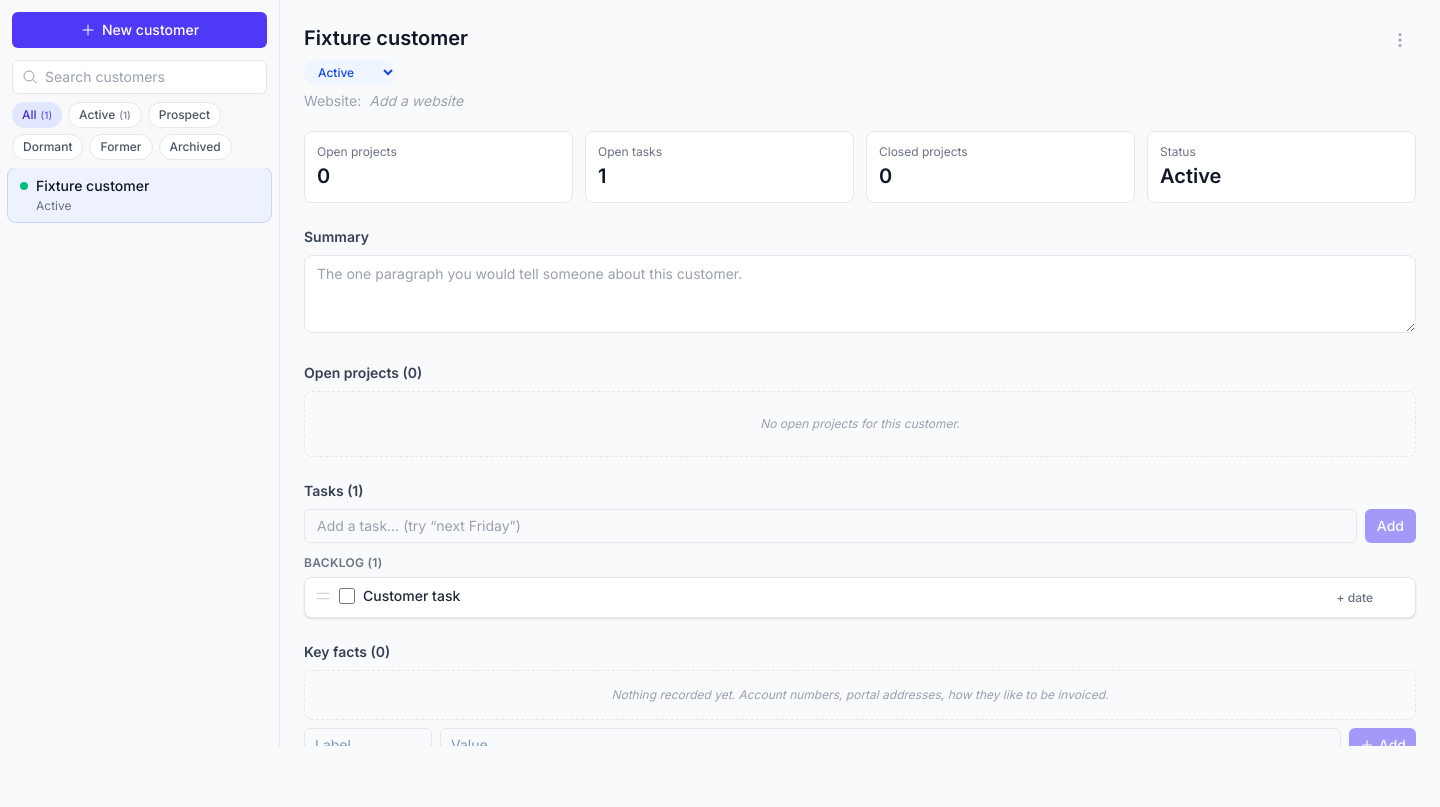
Test: shows a late deletion failure inside a reopened actual drawer
The width and height of the screenshot is (1440, 807).
What coordinates should you click on to do the following:
click the button "Customer task"
I would click on:
 (412, 596)
Its box is [363, 586, 1322, 605].
(page scrolled)
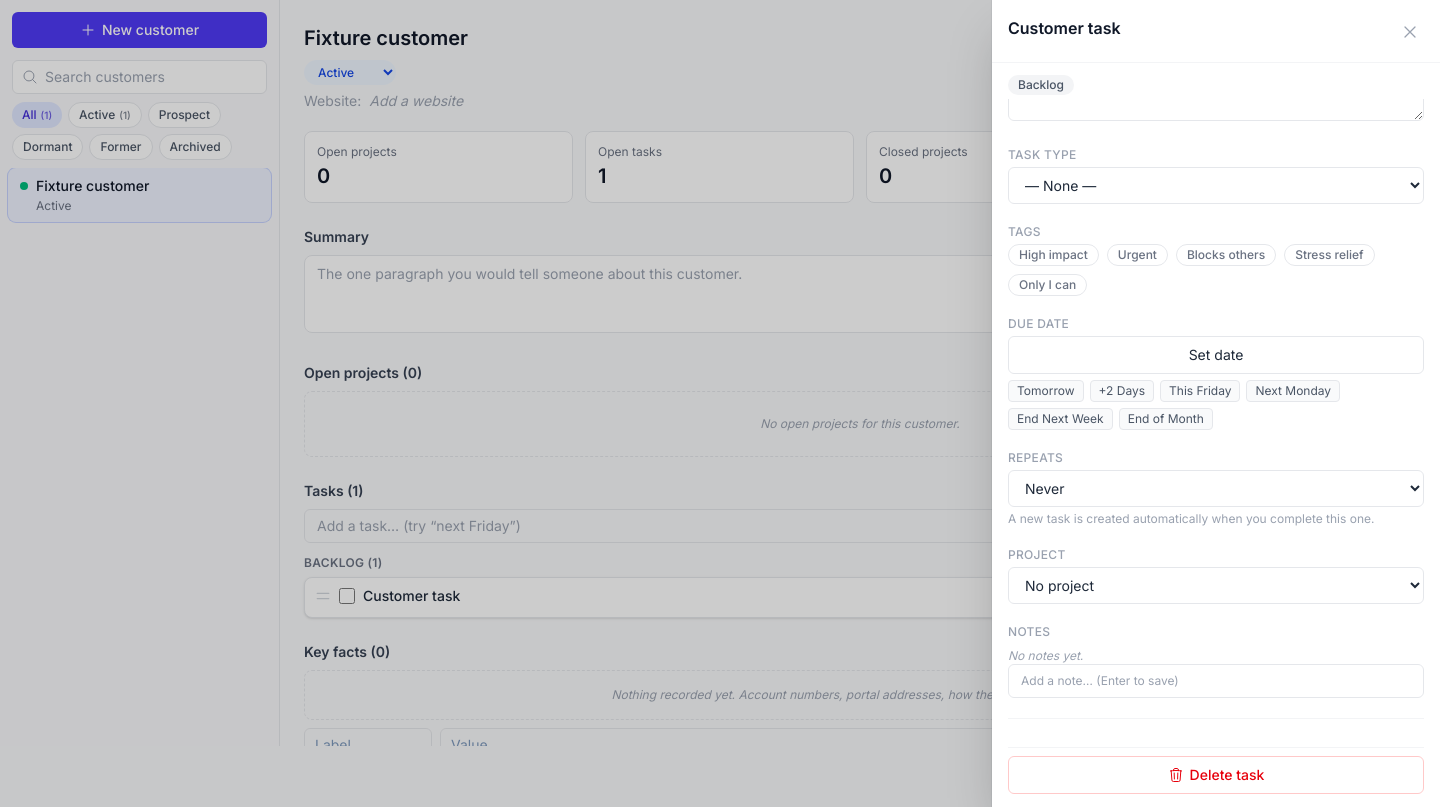
What coordinates should you click on to do the following:
click the button "Delete task"
I would click on:
 (1216, 775)
Its box is [1008, 756, 1424, 794].
(page scrolled)
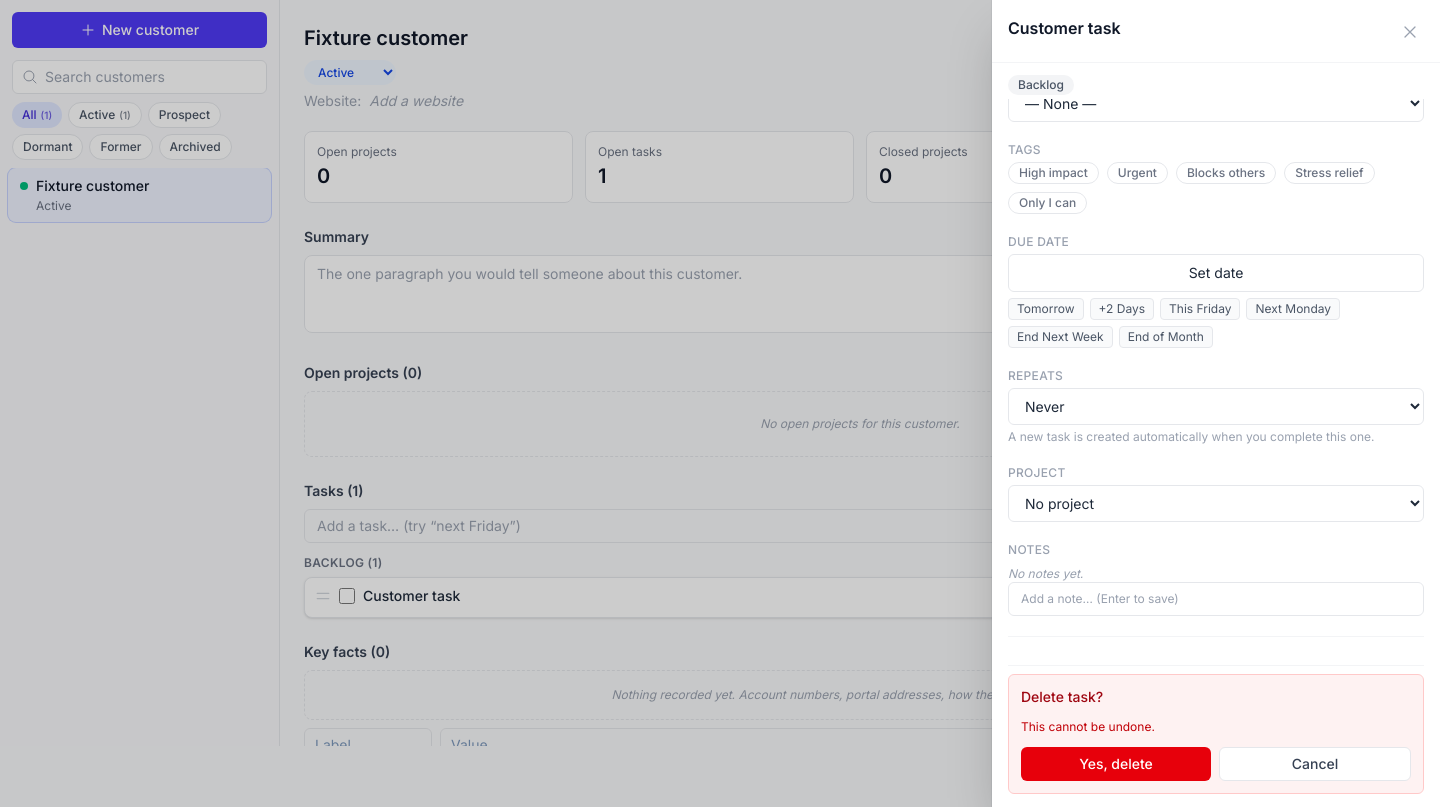
What coordinates should you click on to do the following:
click the button "Yes, delete"
I would click on:
 (1116, 764)
Its box is [1021, 747, 1211, 781].
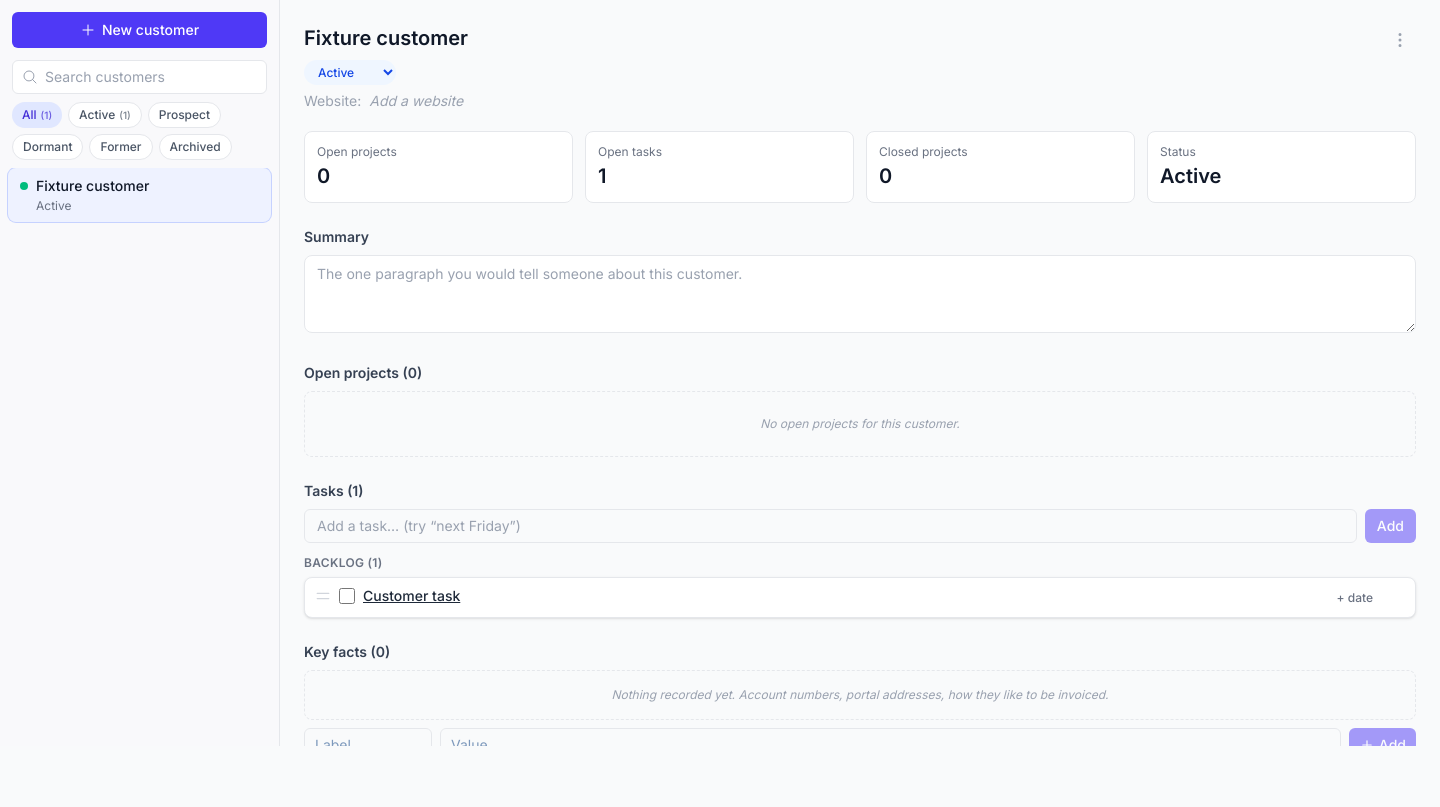
What coordinates should you click on to do the following:
click the button "Customer task"
I would click on:
 (412, 596)
Its box is [363, 586, 1322, 605].
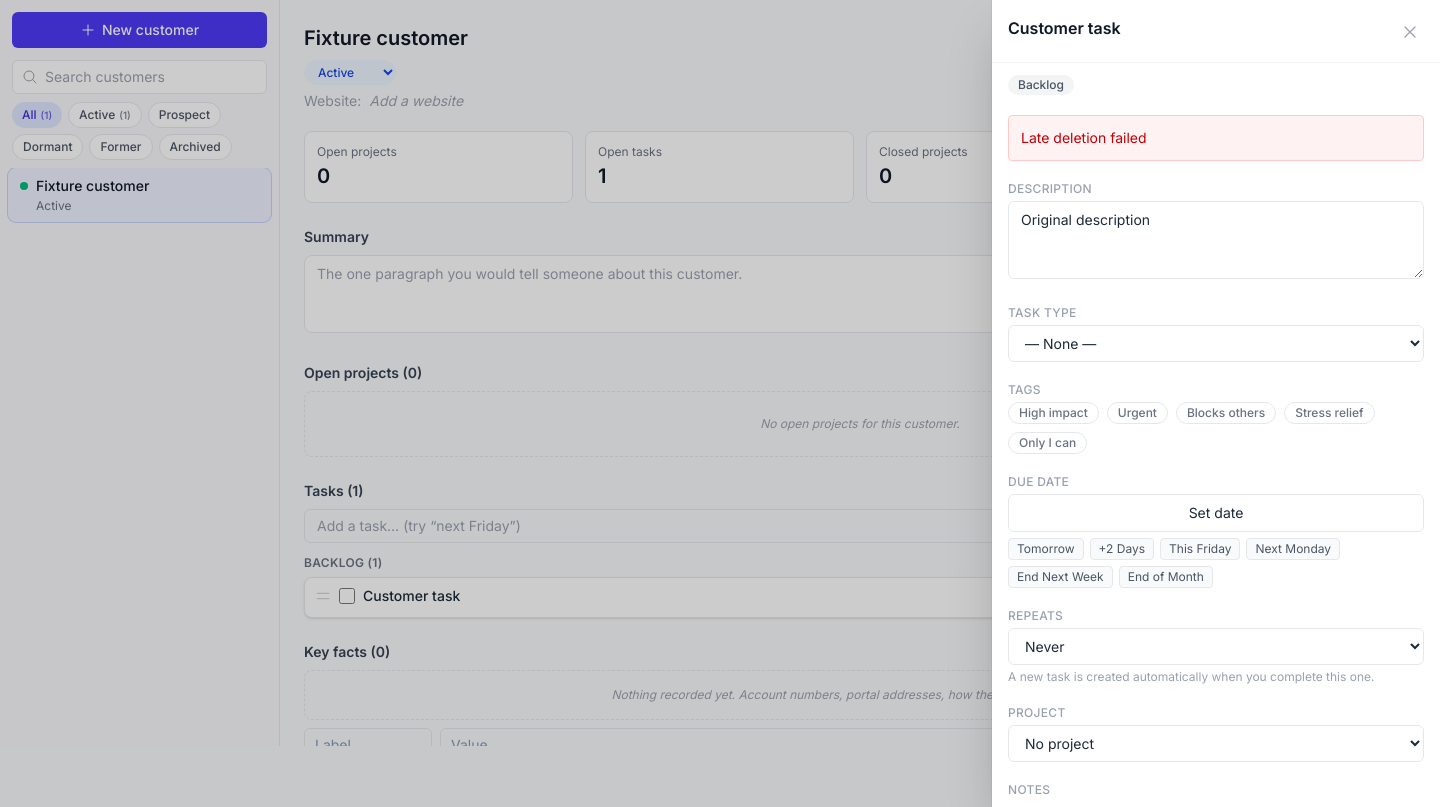
Expected: the message reads "Late deletion failed", [1021, 129, 1146, 146]
Expected: the message "Late deletion failed" is shown, [1008, 115, 1424, 161]
